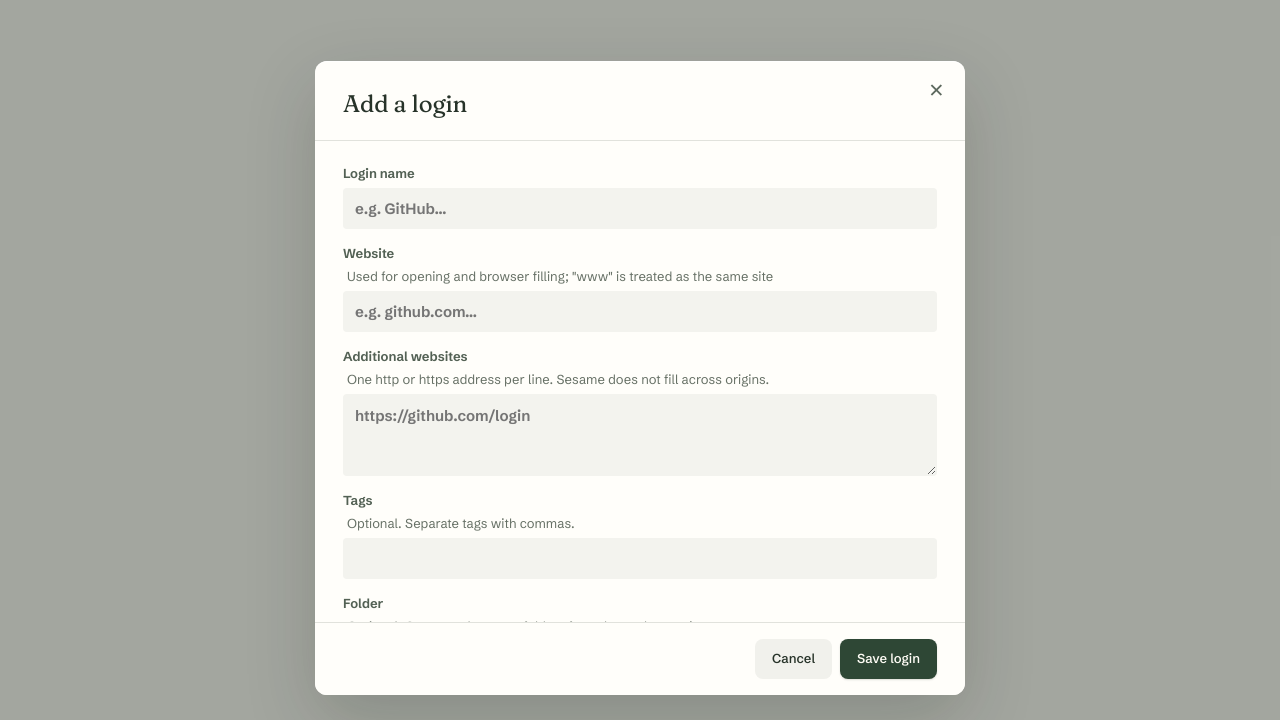
Test: it offers the folder the other logins for this site are in, and one click uses it
In the field named "login-url": coordinates (640, 312) [343,291,937,332], type "example.test"
(page scrolled)
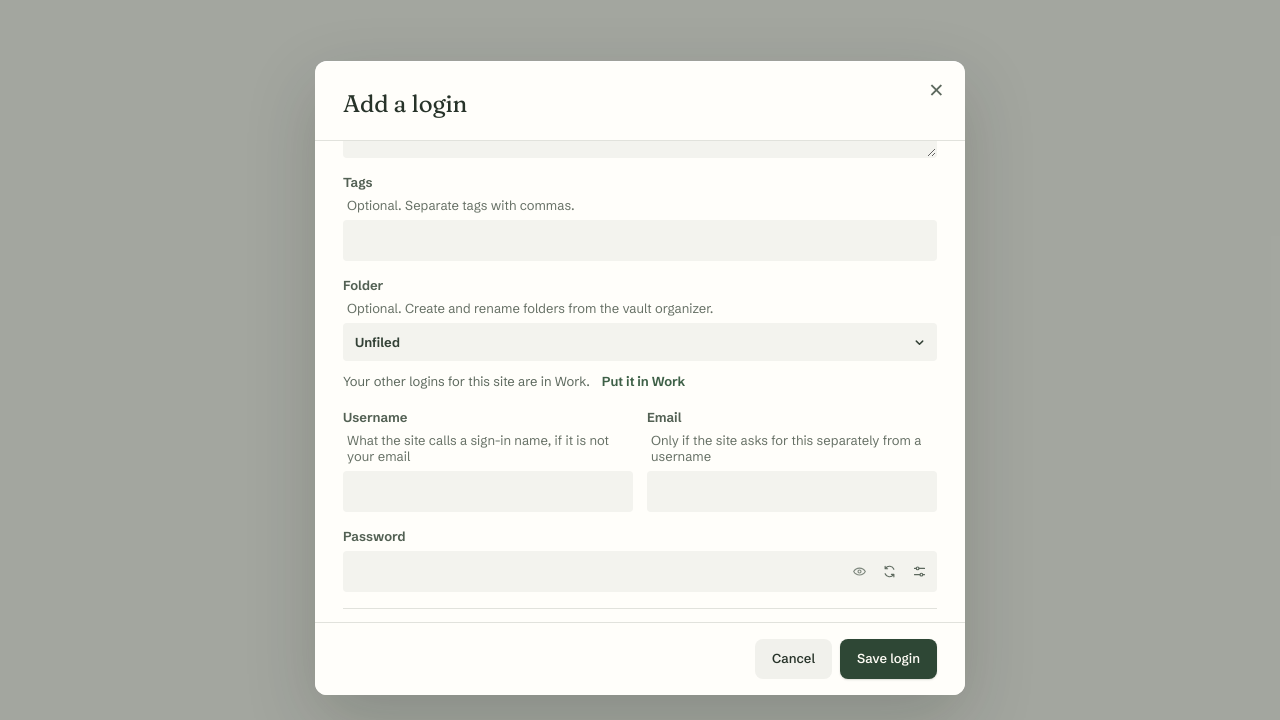
Click the button "Put it in Work": coordinates (644, 381) [598,369,689,393]
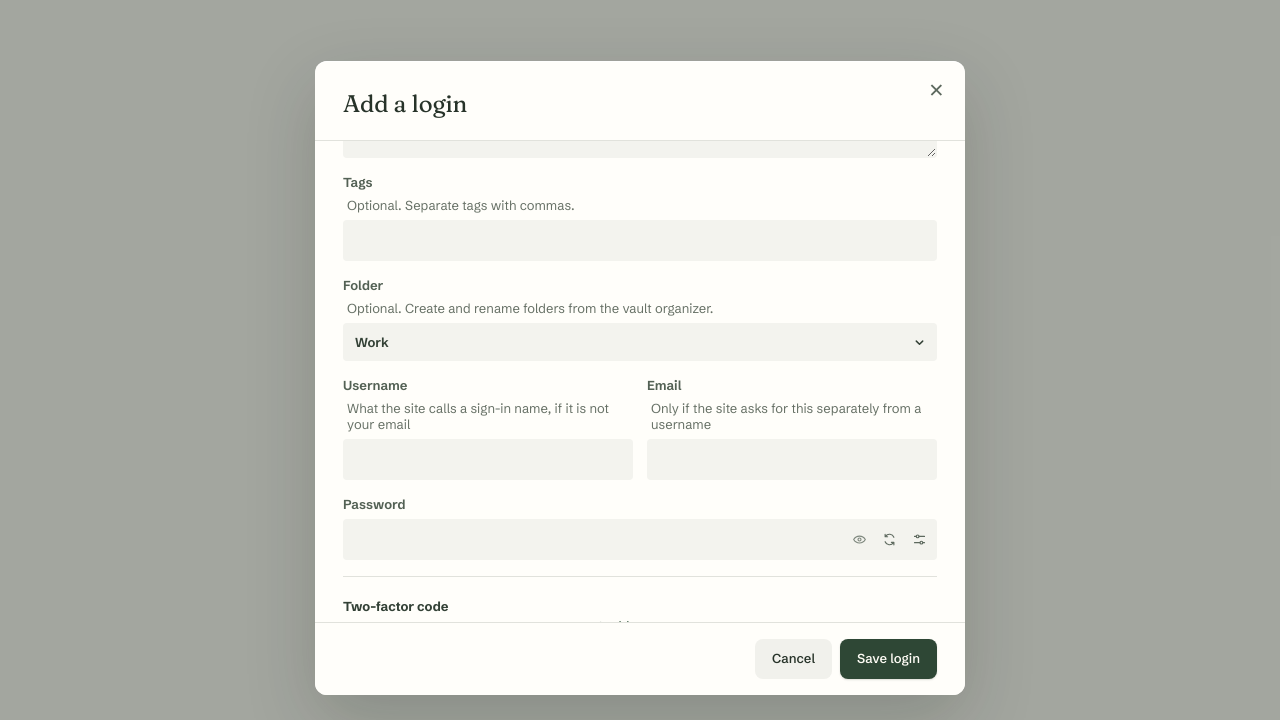
Expected: the text "Work" is shown, [355,334,389,350]
Expected: the button "Put it in Work" is gone
